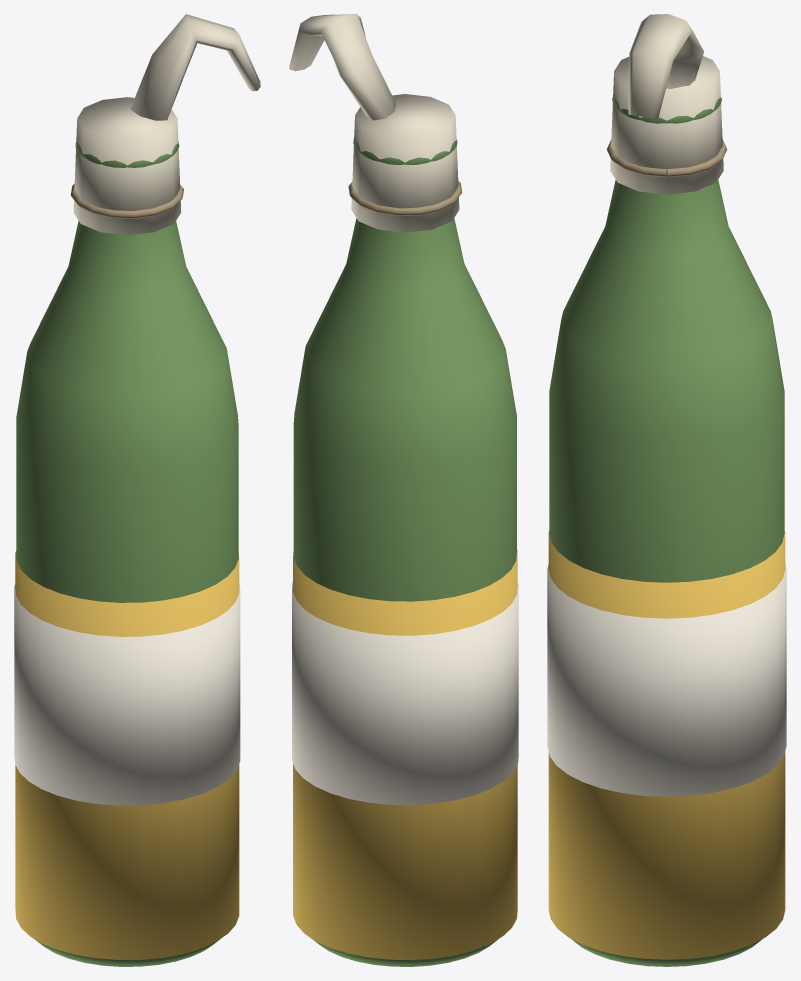
File: SM_Molotov.glb
3 renders of one model, left to right at view 1: azimuth 30°, elevation 25°; view 2: azimuth 150°, elevation 25°; view 3: azimuth 270°, elevation 25°, orthographic. The views are drawn at different scales.
Parts seen in each view (by area): view 1: SM_Molotov; view 2: SM_Molotov; view 3: SM_Molotov.
Boxes of the visible parts, x1,y1,x2,y2 form: SM_Molotov: (14, 14, 260, 966); SM_Molotov: (289, 14, 518, 966); SM_Molotov: (547, 14, 786, 966).
Bounding box in the file's own units: 0.0685 × 0.265 × 0.061.
